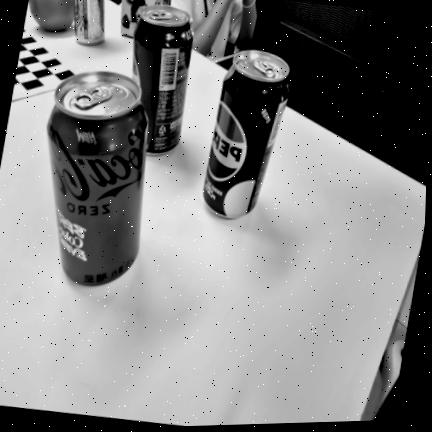can_coke_zero: (46, 71, 147, 286)
can_pepsi: (132, 4, 192, 155)
can_pepsi_zero: (203, 50, 289, 217)
